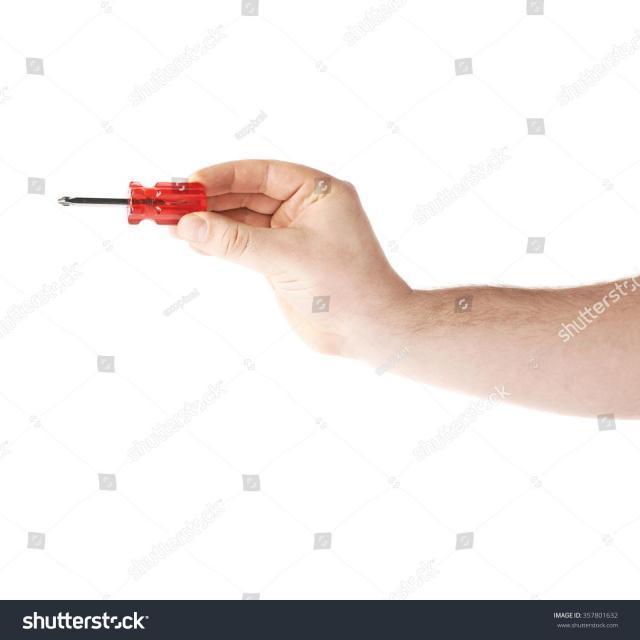screwdriver: (50, 177, 206, 230)
